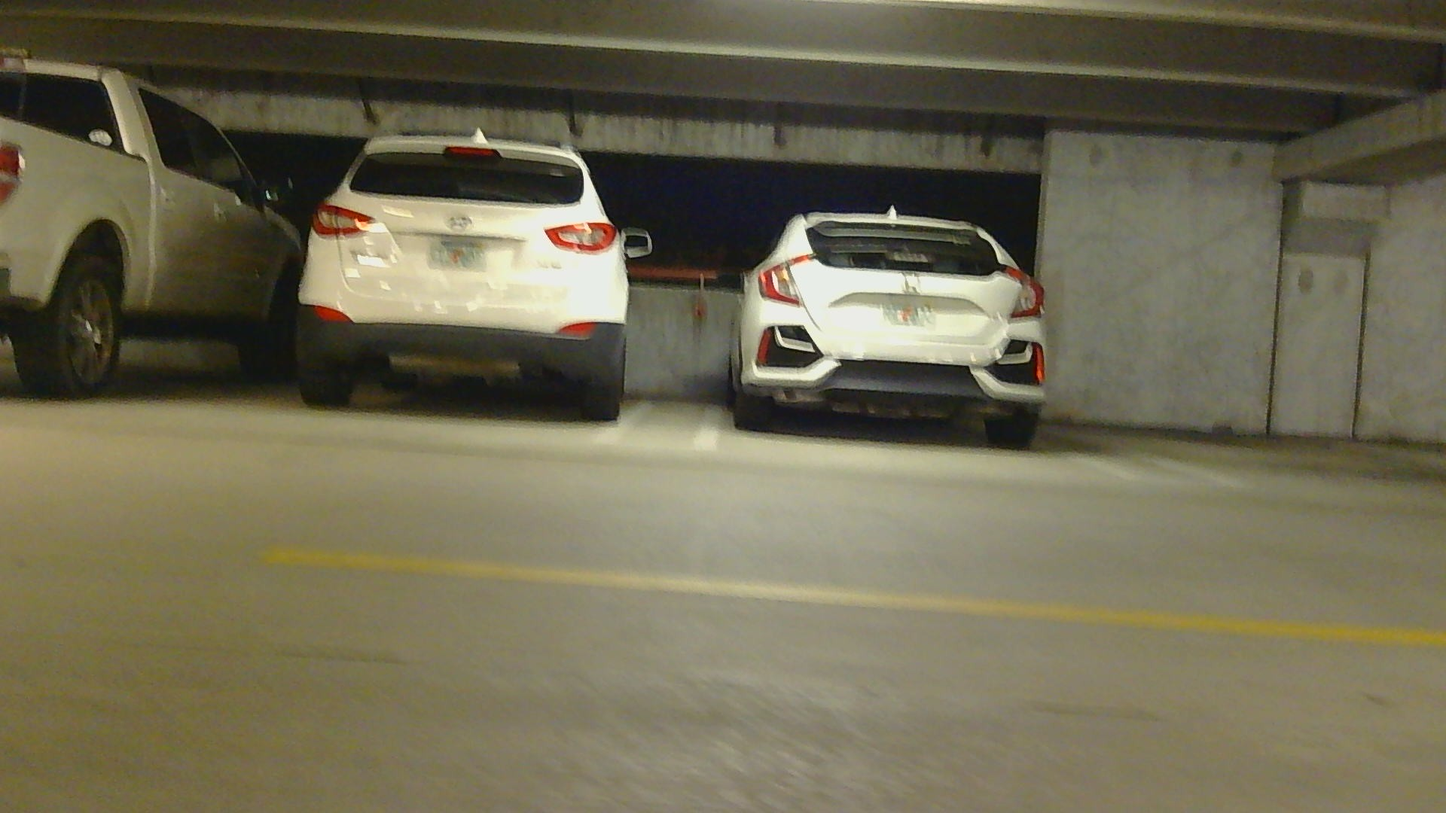empty_spot: (1031, 339, 1446, 504)
occupied_spot: (0, 47, 311, 406), (289, 132, 646, 418), (714, 188, 1062, 468)
